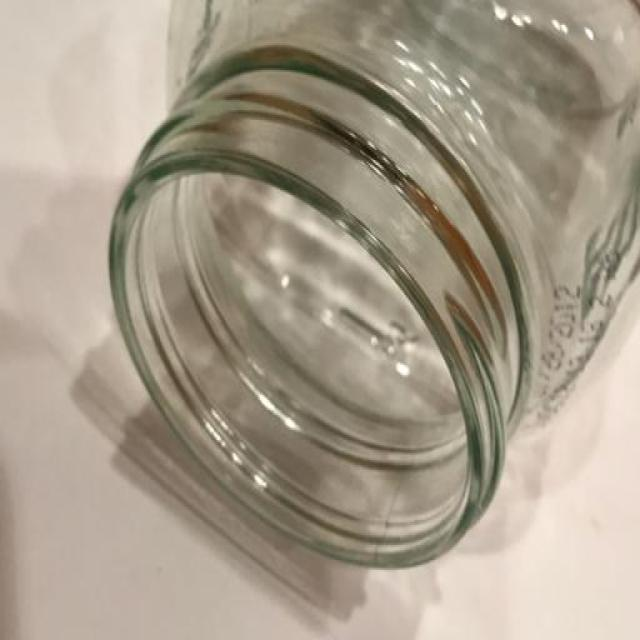glass: (81, 0, 640, 615)
